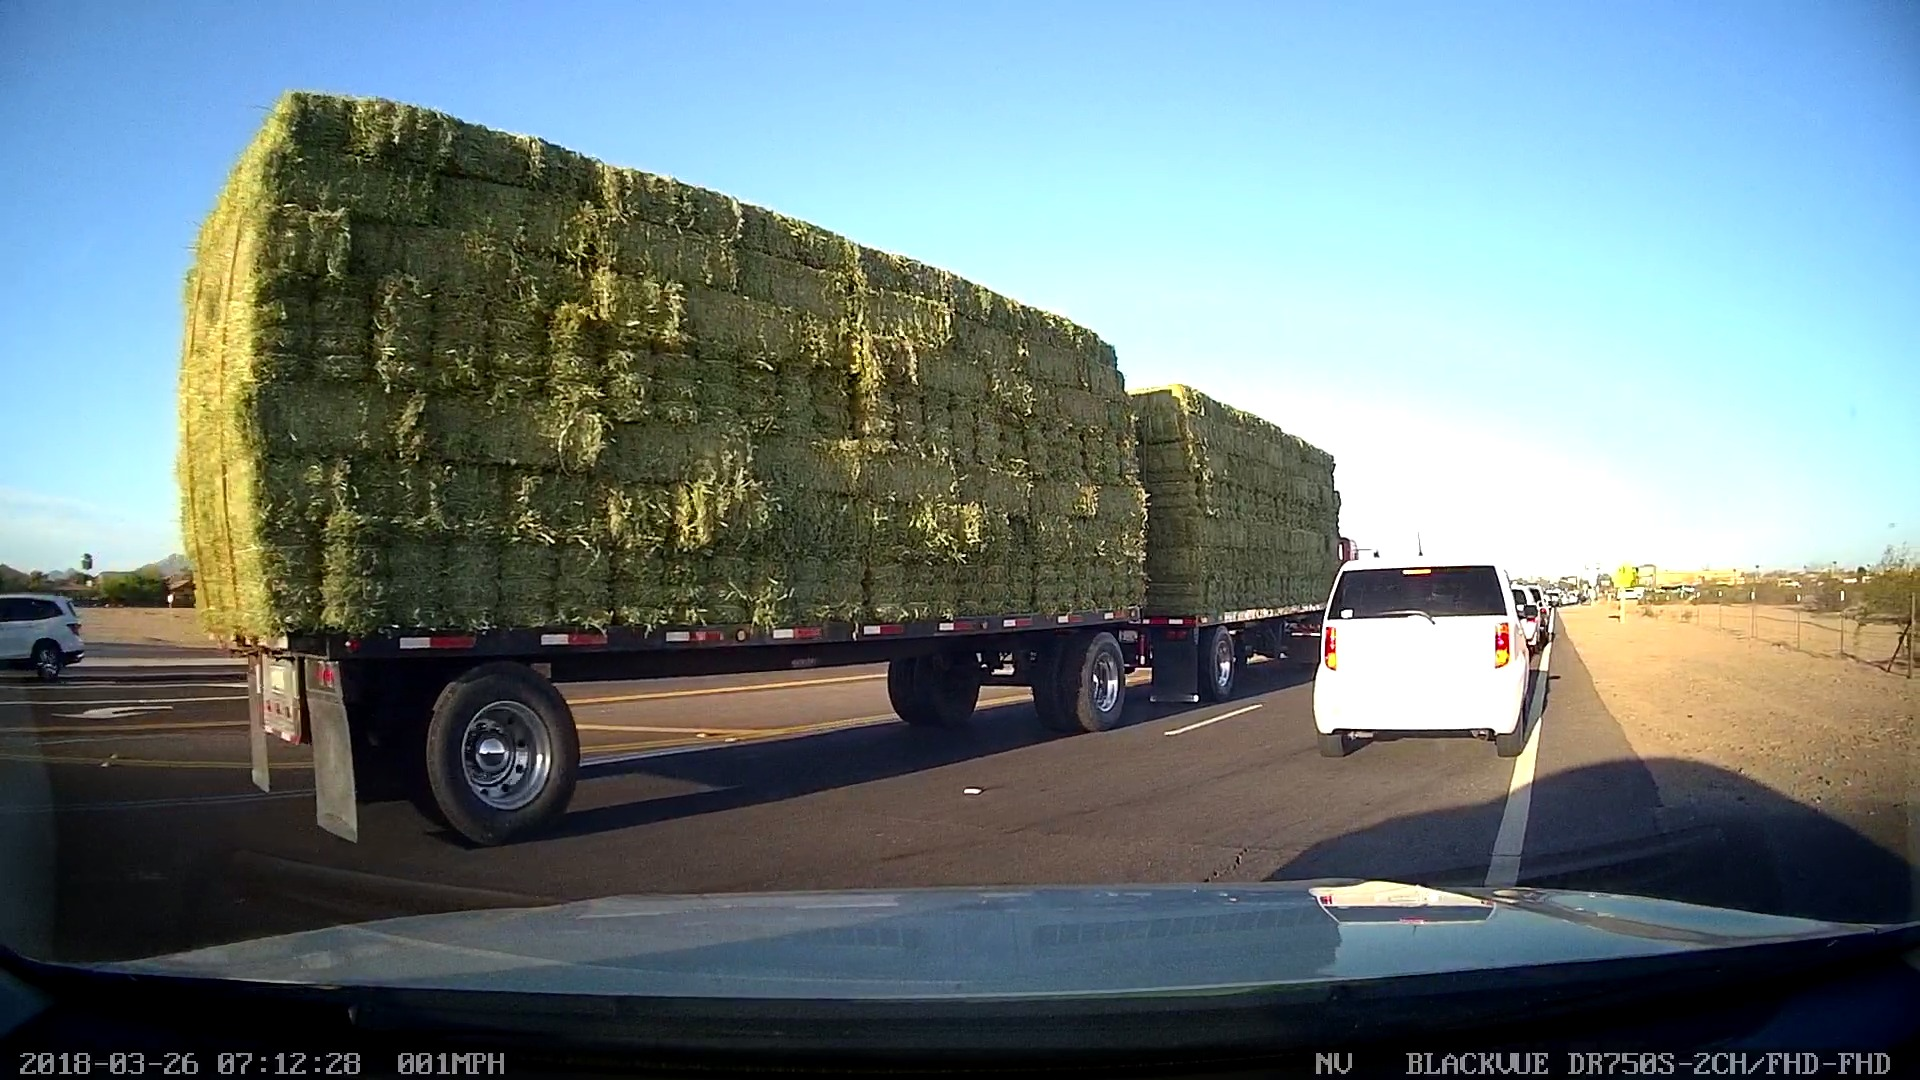vehicle: (171, 80, 1360, 843), (1315, 556, 1532, 758), (0, 588, 86, 680)
